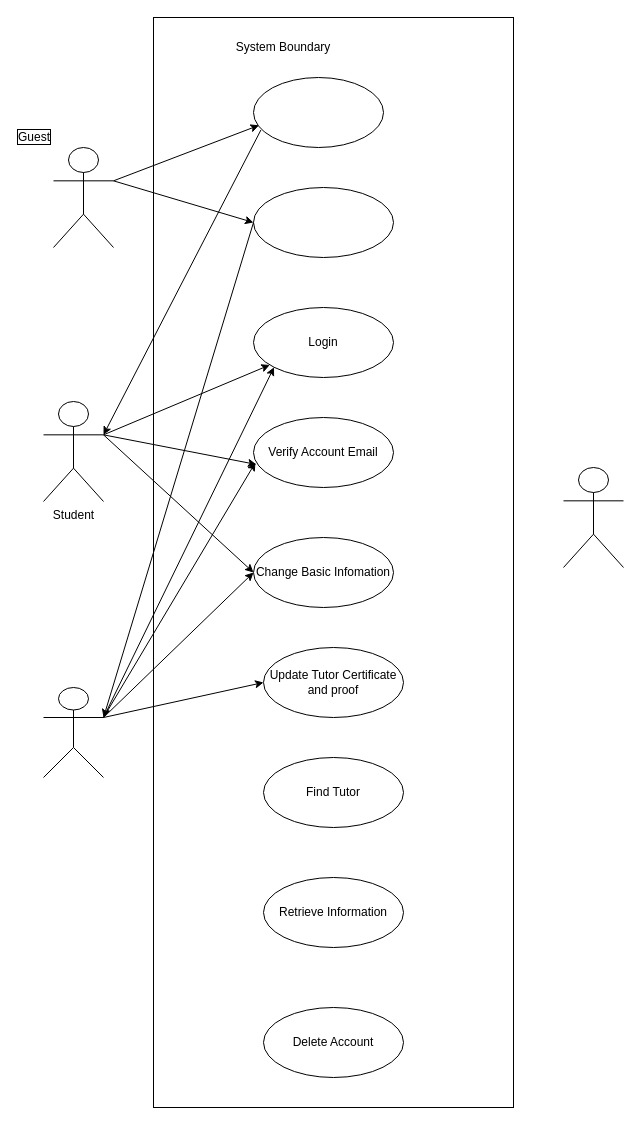
This 641x1125 diagram has some shape labels left out. The centre of each missing label's shape, as x and y in pixels:
"Admin" belongs at (x=593, y=517).
"Student Register" belongs at (x=318, y=112).
"Tutor" belongs at (x=73, y=732).
"Tutor Register" belongs at (x=323, y=222).
